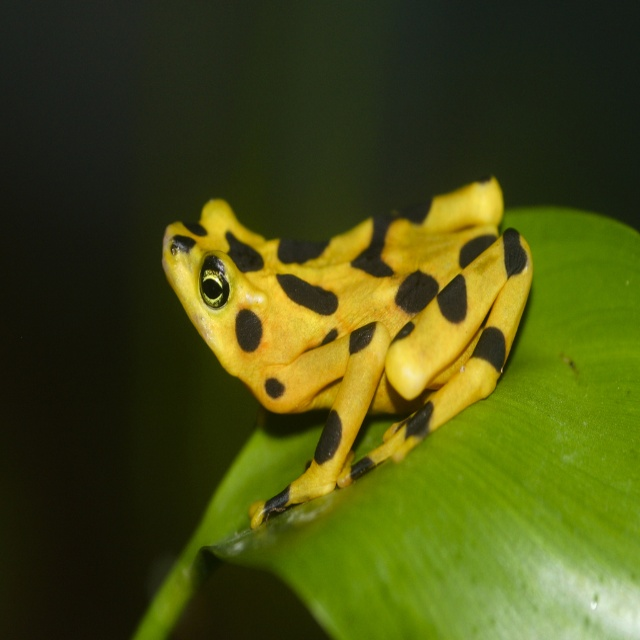Frog: (162, 197, 533, 532)
